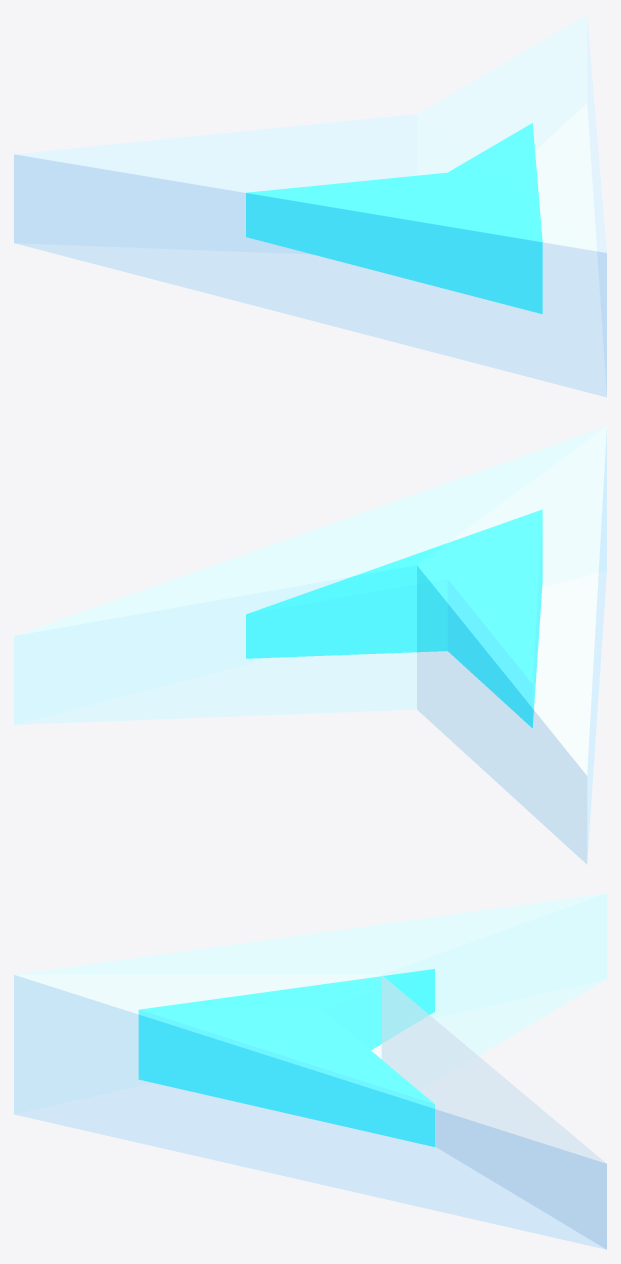
The model's file is cam-cursor.glb.
3 renders of one model, top to bottom at view 1: azimuth 30°, elevation 25°; view 2: azimuth 150°, elevation 25°; view 3: azimuth 270°, elevation 25°, orthographic. The views are drawn at different scales.
Visible parts, largest first — view 1: Cursor_Glass, Cursor_Core; view 2: Cursor_Glass, Cursor_Core; view 3: Cursor_Glass, Cursor_Core.
Part boxes in pixels (bbox=[...]): Cursor_Glass: bbox=[14, 15, 606, 397]; Cursor_Core: bbox=[246, 123, 542, 313]; Cursor_Glass: bbox=[14, 426, 606, 863]; Cursor_Core: bbox=[246, 509, 542, 727]; Cursor_Glass: bbox=[14, 893, 606, 1249]; Cursor_Core: bbox=[138, 969, 434, 1146].
Size of the model in its own units: 0.54 by 0.13 by 0.5.
